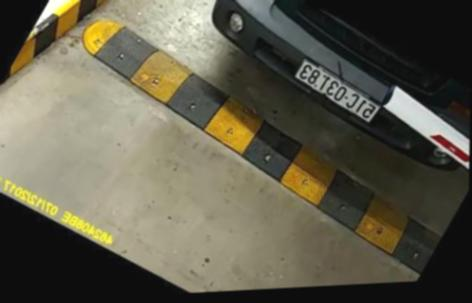License_Plate: (290, 52, 382, 133)
